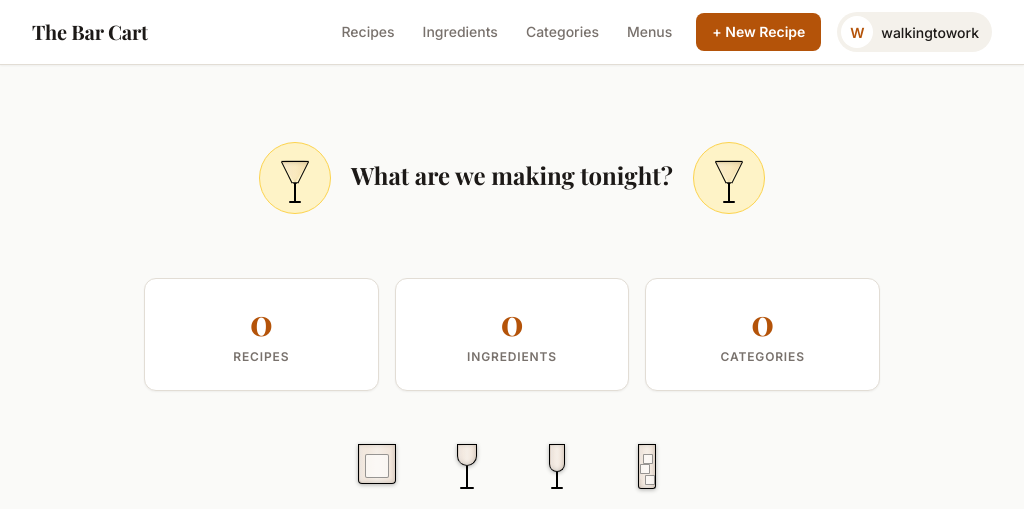
signed in › the account menu closes on Escape
Click the button with aria-label "Account: walkingtowork": (915, 32) [837,12,992,52]
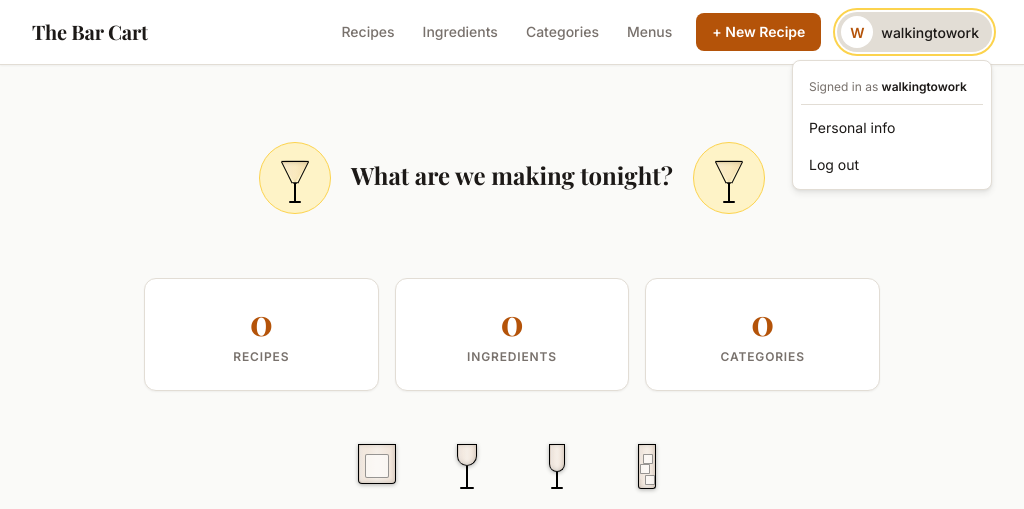
Result: the menu is shown at [792,60,992,190]
Press Escape
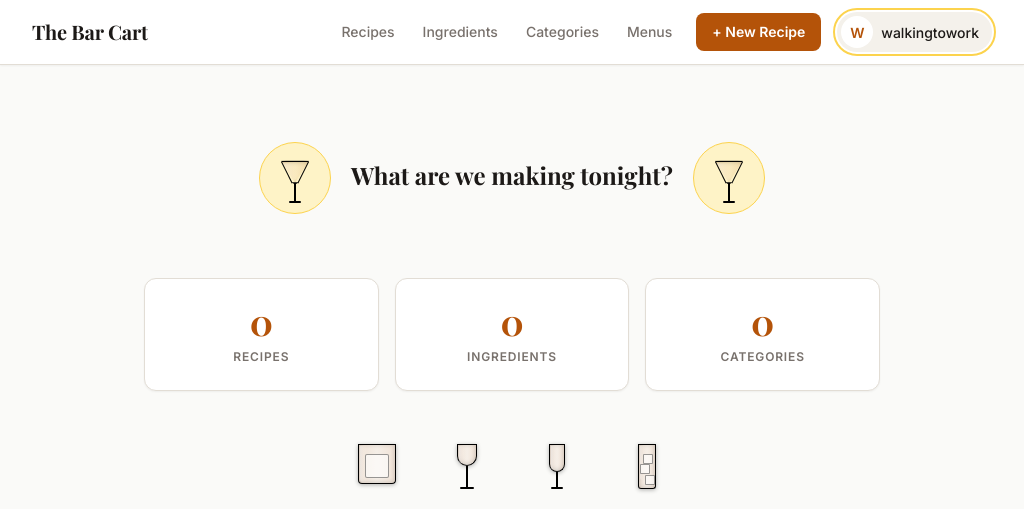
Result: the menu is gone
